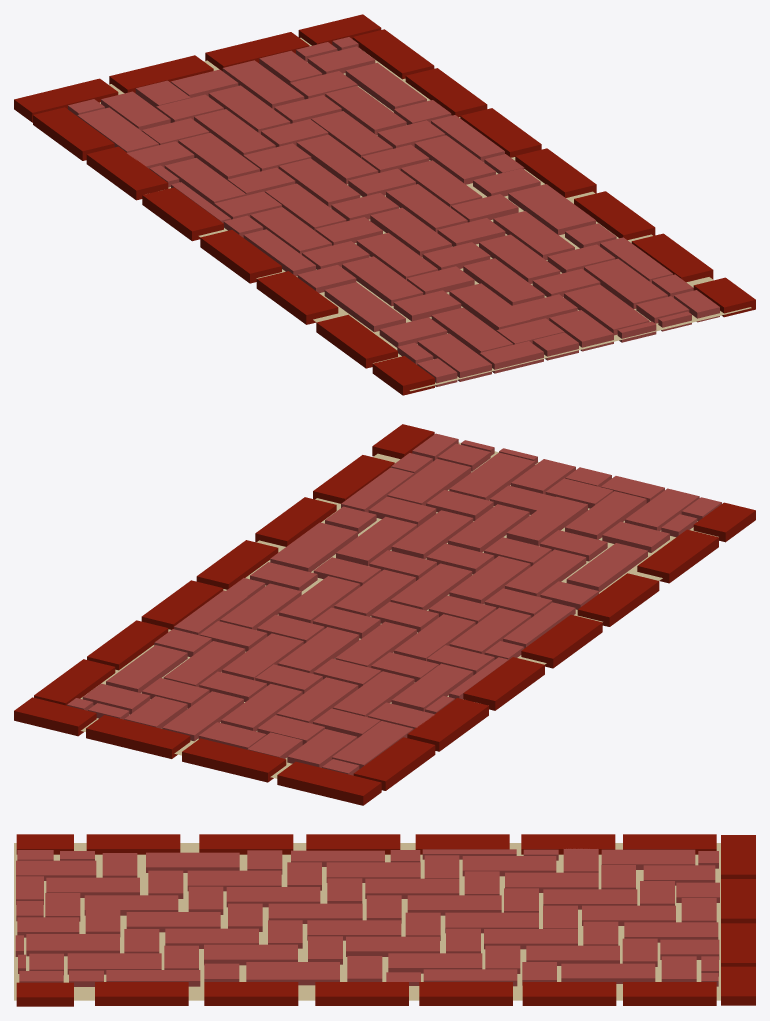
The model's file is BrickEnd.fbx.
The picture shows the model from 3 angles, top to bottom: view 1: azimuth 30°, elevation 25°; view 2: azimuth 150°, elevation 25°; view 3: azimuth 270°, elevation 25°; orthographic projection. The views are drawn at different scales.
Parts seen in each view (by area): view 1: Plane, Cube.032, Cube.048, Cube.046, Cube.045, Cube.047, Cube.049, Cube.044, Cube.088, Cube.058, Cube.059, Cube.076 (+79 smaller); view 2: Cube.030, Cube.040, Cube.041, Cube.032, Cube.048, Cube.049, Cube.047, Cube.046, Cube.045, Cube.044, Cube.088, Cube.059 (+77 smaller); view 3: Plane, Cube.056, Cube.059, Cube.055, Cube.057, Cube.058, Cube.060, Cube.032, Cube.088, Cube.049, Cube.071, Cube.076 (+86 smaller).
Boxes of the visible parts, bbox=[...] form: Plane: bbox=[99, 37, 751, 391]; Cube.032: bbox=[508, 184, 595, 235]; Cube.048: bbox=[256, 271, 338, 324]; Cube.046: bbox=[142, 187, 223, 241]; Cube.045: bbox=[86, 146, 168, 200]; Cube.047: bbox=[200, 230, 281, 283]; Cube.049: bbox=[316, 314, 397, 368]; Cube.044: bbox=[33, 107, 114, 160]; Cube.088: bbox=[564, 284, 649, 335]; Cube.058: bbox=[515, 148, 596, 197]; Cube.059: bbox=[574, 191, 655, 240]; Cube.076: bbox=[324, 282, 405, 332]; Cube.030: bbox=[277, 761, 381, 805]; Cube.040: bbox=[182, 738, 286, 782]; Cube.041: bbox=[86, 715, 190, 758]; Cube.032: bbox=[270, 522, 357, 572]; Cube.048: bbox=[577, 573, 659, 626]; Cube.049: bbox=[637, 529, 718, 583]; Cube.047: bbox=[521, 614, 602, 668]; Cube.046: bbox=[463, 657, 544, 710]; Cube.045: bbox=[407, 698, 488, 751]; Cube.044: bbox=[353, 737, 435, 790]; Cube.088: bbox=[449, 452, 535, 500]; Cube.059: bbox=[255, 497, 336, 546]; Plane: bbox=[14, 843, 720, 1000]; Cube.056: bbox=[522, 982, 616, 1005]; Cube.059: bbox=[204, 982, 298, 1005]; Cube.055: bbox=[623, 982, 716, 1005]; Cube.057: bbox=[419, 982, 512, 1005]; Cube.058: bbox=[315, 982, 408, 1005]; Cube.060: bbox=[95, 982, 188, 1005]; Cube.032: bbox=[246, 962, 339, 985]; Cube.088: bbox=[26, 934, 119, 956]; Cube.049: bbox=[86, 834, 180, 854]; Cube.071: bbox=[561, 963, 655, 983]; Cube.076: bbox=[146, 852, 239, 872].
Bounding box in the file's own units: 822 × 25.77 × 1581.
